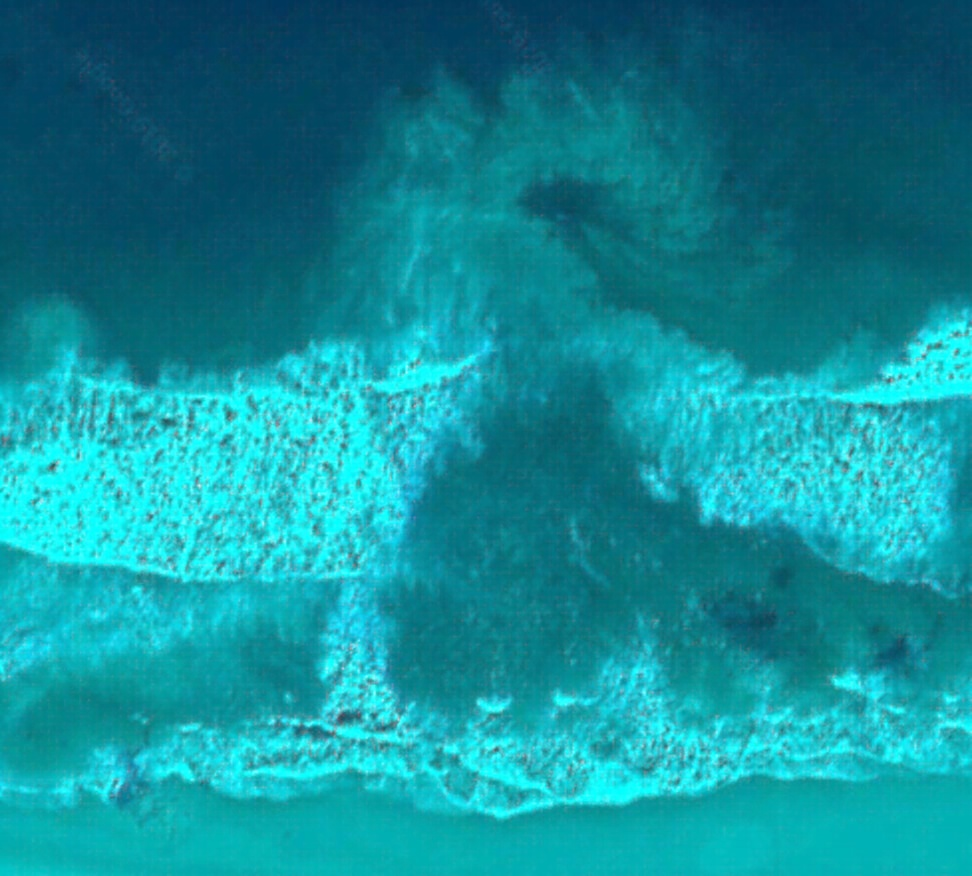rip_current: (315, 30, 775, 692)
